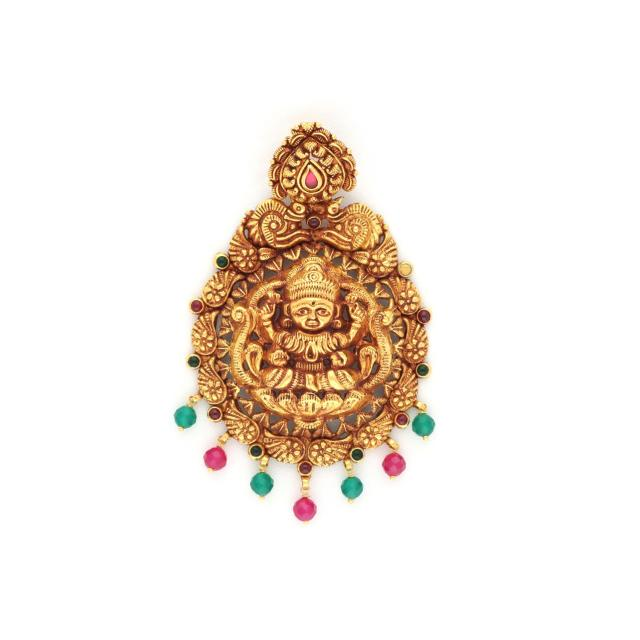missing gem: (400, 264, 411, 275)
